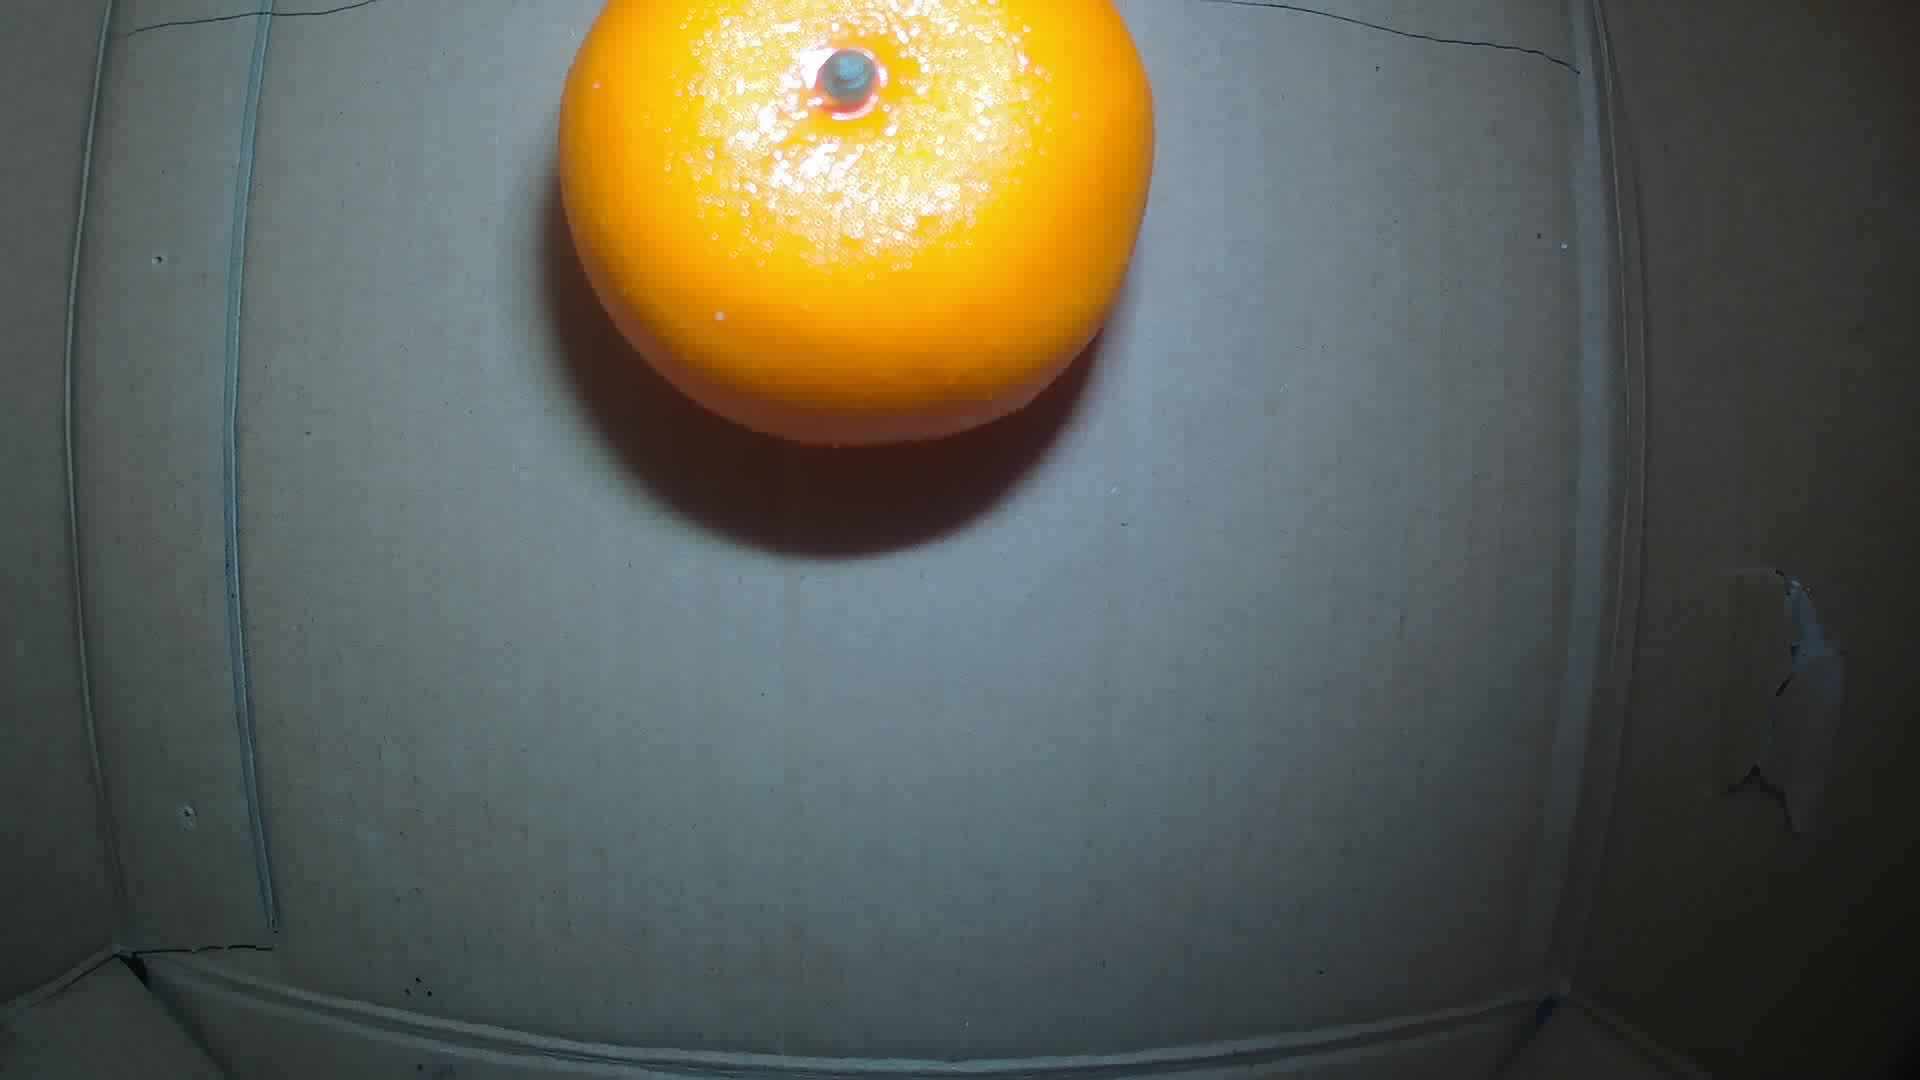orange: (550, 1, 1156, 450)
